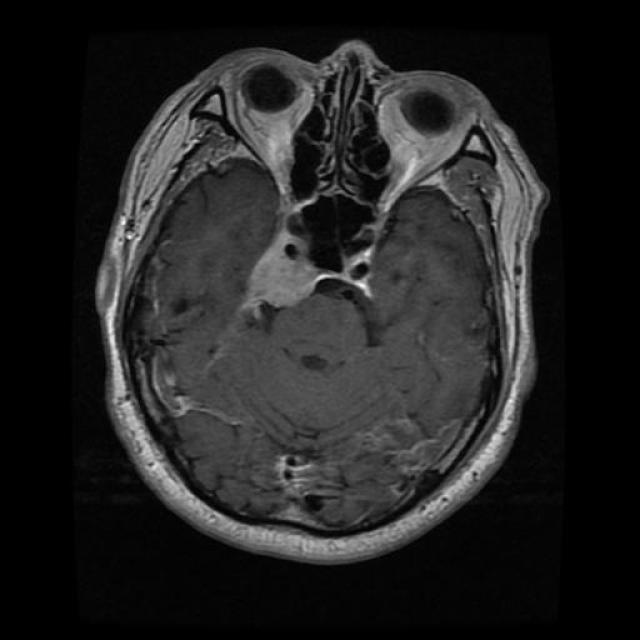meningioma: (241, 240, 325, 308)
